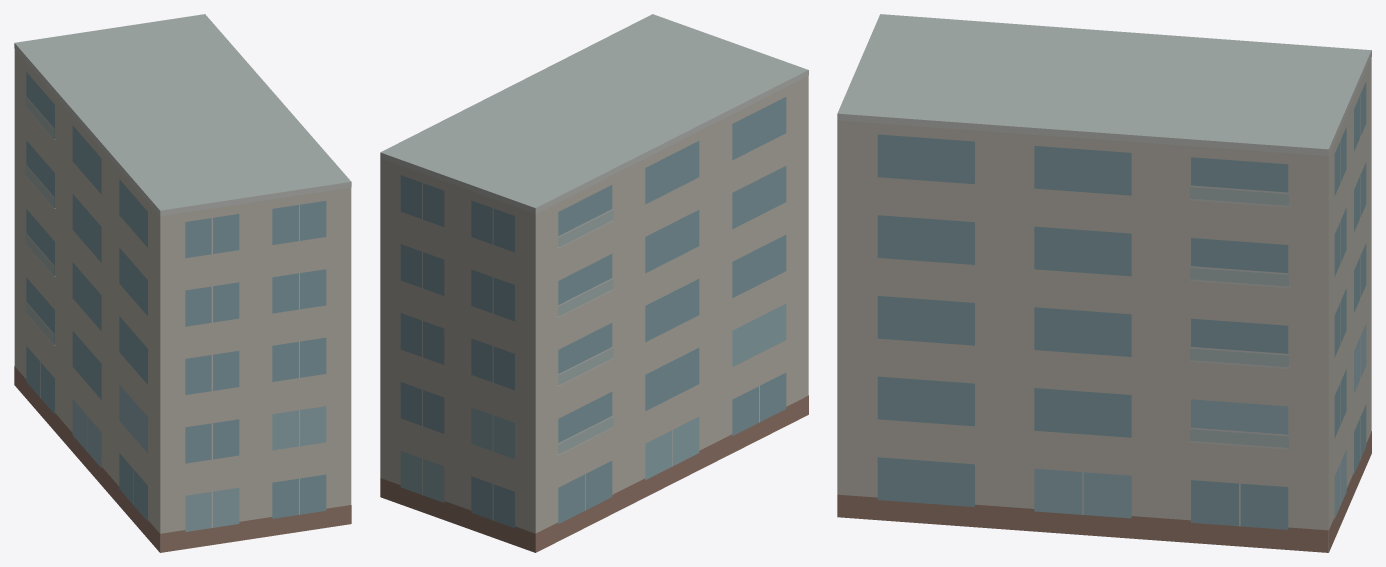
The model's file is survey-upis-32877805.glb.
3 renders of one model, left to right at view 1: azimuth 30°, elevation 25°; view 2: azimuth 150°, elevation 25°; view 3: azimuth 270°, elevation 25°, orthographic. The views are drawn at different scales.
Visible parts, largest first — view 1: survey-upis-32877805.tmp; view 2: survey-upis-32877805.tmp; view 3: survey-upis-32877805.tmp.
Part boxes in pixels (left/top/right/bottom): survey-upis-32877805.tmp: left=14, top=14, right=351, bottom=552; survey-upis-32877805.tmp: left=380, top=14, right=808, bottom=552; survey-upis-32877805.tmp: left=837, top=14, right=1371, bottom=552.
Size of the model in its own units: 10.48 by 14.55 by 17.47.
